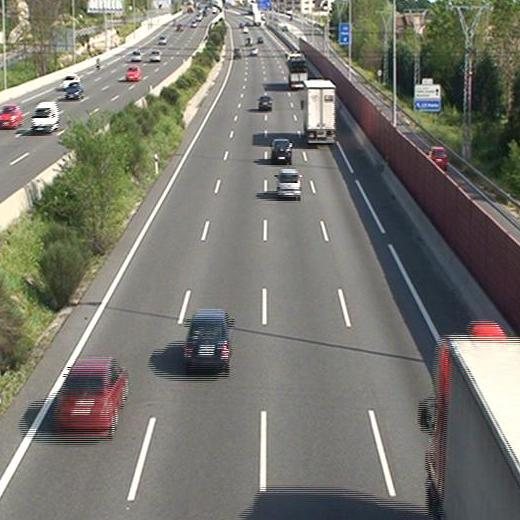car: (58, 361, 128, 426), (185, 312, 231, 367), (275, 170, 300, 197), (272, 140, 292, 162), (258, 96, 272, 110), (232, 48, 242, 59)
truck: (303, 80, 336, 143), (288, 55, 309, 89)
